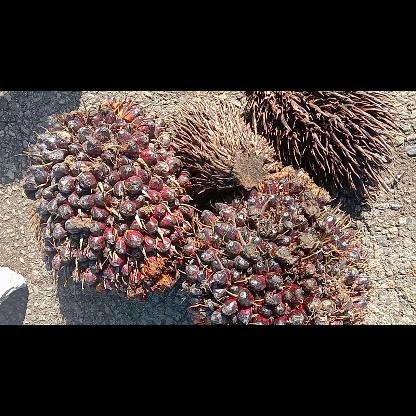Janjang kosong: (244, 91, 406, 199), (164, 100, 280, 192)
TBS mentah: (22, 93, 202, 302), (181, 166, 372, 324)
